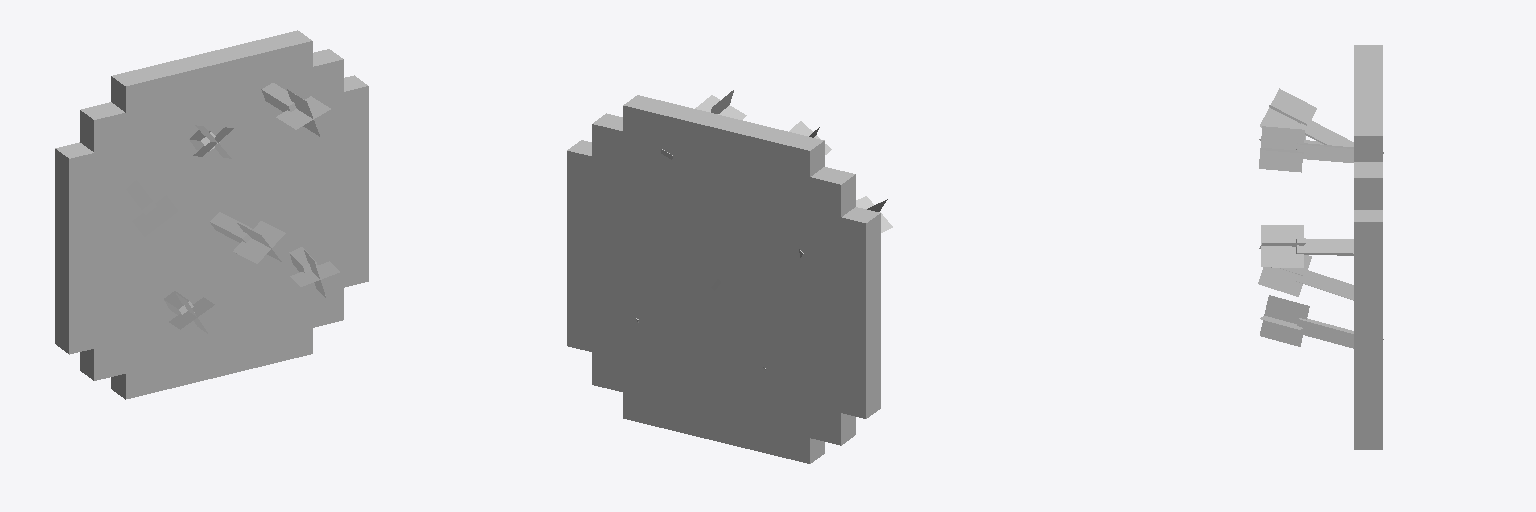
Rendered from 810_dart_board.obj.
The picture shows the model from 3 angles: view 1: azimuth 30°, elevation 25°; view 2: azimuth 150°, elevation 25°; view 3: azimuth 270°, elevation 25°; orthographic projection.
Parts seen in each view (by area): view 1: Board, Board4, Board2, Board5, Board3, Featherthingy2, Featherthingy4, Featherthingy6, arrow1red, arrow2blue, Featherthingy7; view 2: Board, Board4, Board2, Board5, Board3; view 3: Board3, Board2, Board, Featherthingy5, Featherthingy1, Feather_thingy_8, Featherthingy11, Featherthingy9, arrow3blue, arrow1red, arrow2blue, arrow2red (+1 smaller).
Boxes of the visible parts, box(x1,y1,x2,y2) form: Board: box(80, 49, 343, 380); Board4: box(55, 142, 93, 354); Board2: box(111, 30, 312, 112); Board5: box(111, 328, 312, 399); Board3: box(344, 75, 368, 287); Featherthingy2: box(233, 221, 285, 263); Featherthingy4: box(132, 195, 177, 236); Featherthingy6: box(276, 96, 330, 129); arrow1red: box(210, 212, 254, 242); arrow2blue: box(261, 83, 296, 111); Featherthingy7: box(290, 261, 339, 286); Board: box(592, 113, 855, 445); Board4: box(841, 207, 880, 418); Board2: box(623, 95, 824, 176); Board5: box(623, 393, 824, 463); Board3: box(567, 140, 591, 351); Board3: box(1354, 210, 1382, 417); Board2: box(1354, 45, 1382, 161); Board: box(1354, 162, 1382, 438); Featherthingy5: box(1259, 126, 1304, 172); Featherthingy1: box(1261, 225, 1303, 267); Feather_thingy_8: box(1260, 295, 1309, 346); Featherthingy11: box(1260, 88, 1316, 128); Featherthingy9: box(1258, 255, 1311, 296); arrow3blue: box(1295, 318, 1383, 348); arrow1red: box(1296, 238, 1353, 255); arrow2blue: box(1296, 143, 1353, 162); arrow2red: box(1296, 268, 1353, 300).
Bounding box in the file's own units: 0.9 × 0.95 × 0.5406.